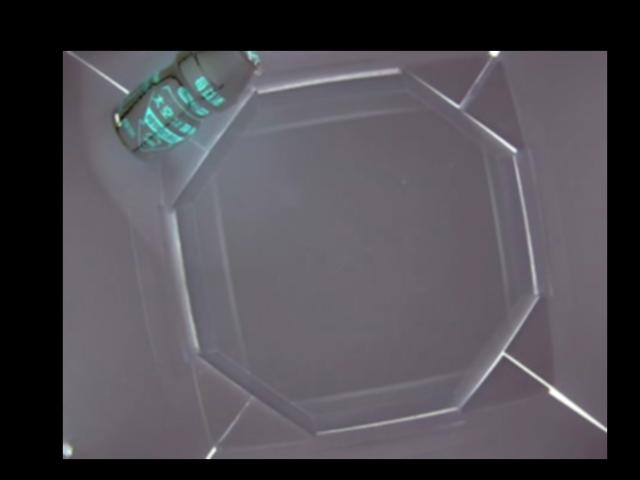Bottle: (108, 51, 264, 157)
